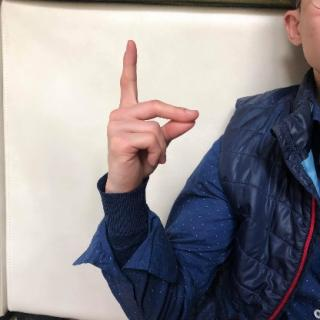TAA: (102, 36, 205, 198)
